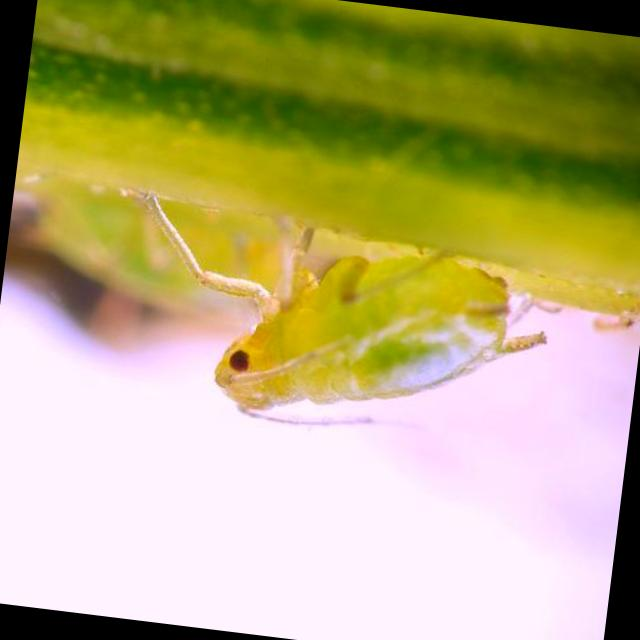Aphids: (86, 153, 584, 494)
